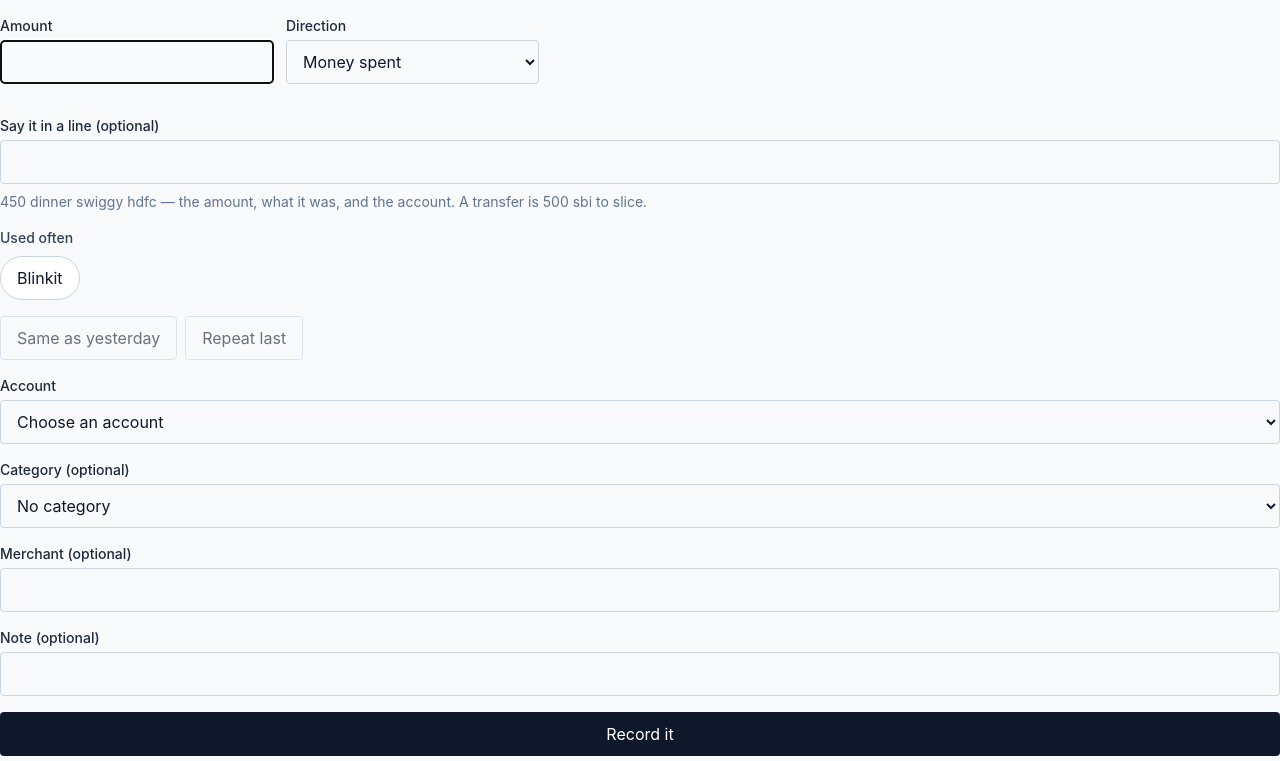
Scenario: FastEntry › refuses money that is not money, and sends nothing
Type "abc" into the field labelled "Amount".
click(137, 62); type("abc")  # box [0, 40, 274, 84]
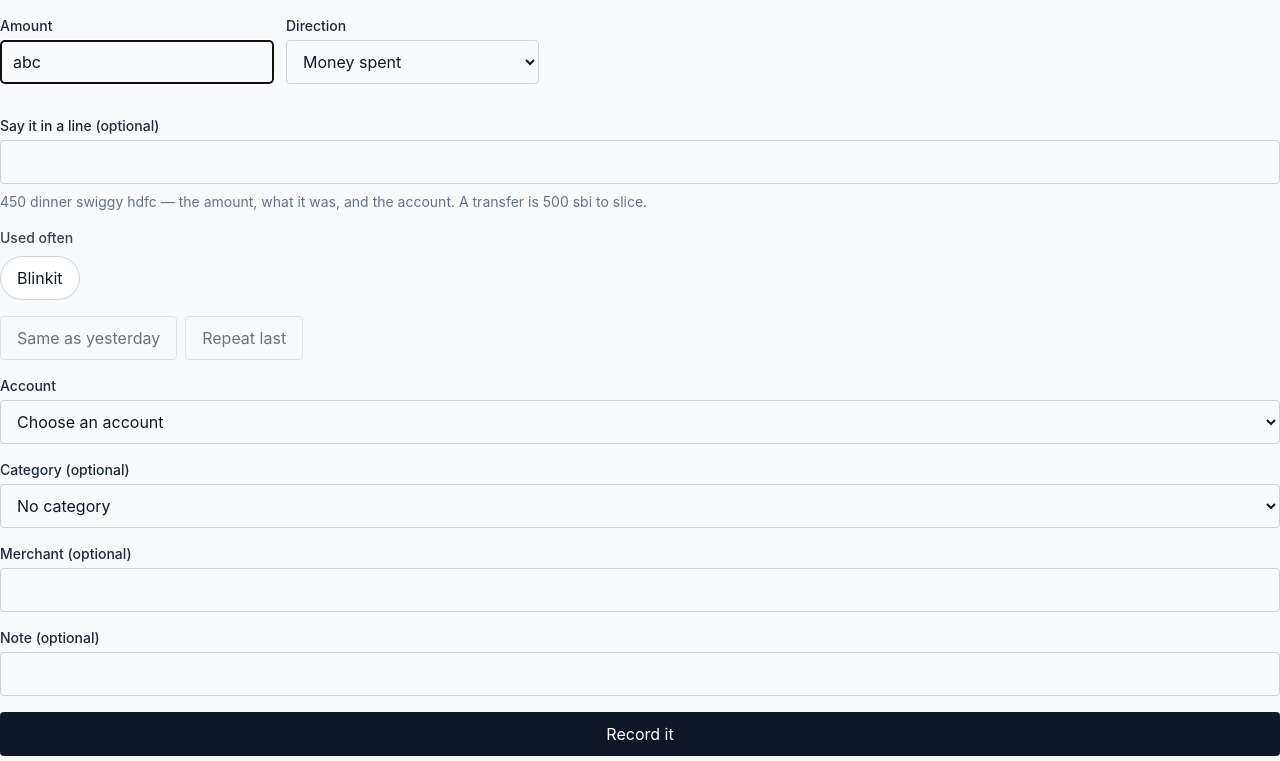
Click the button "Record it".
click(640, 734)  # box [0, 712, 1279, 756]
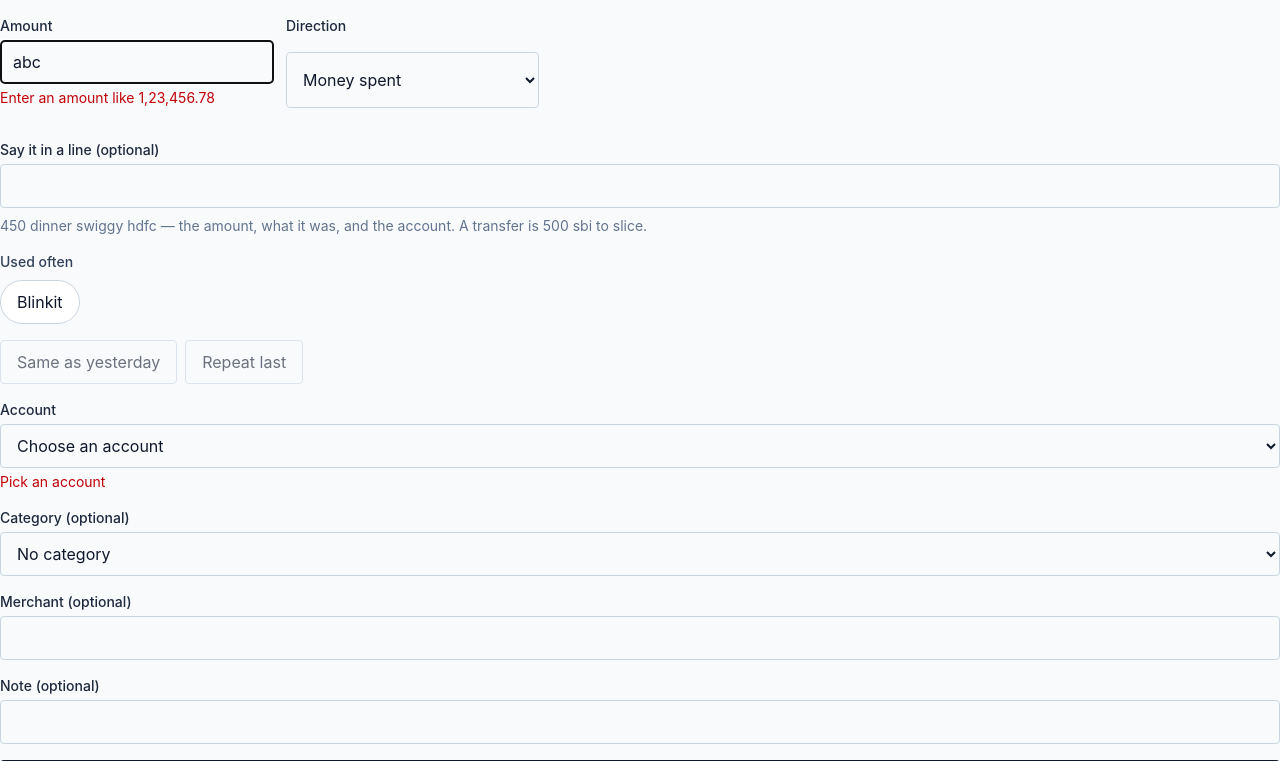
Result: the text "Enter an amount like 1,23,456.78" is shown at [0, 89, 215, 106]
